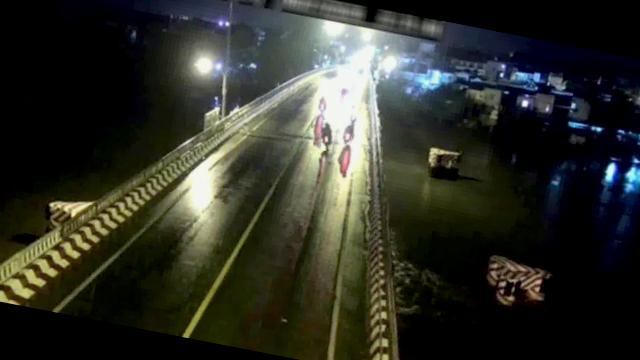Bike: (316, 119, 337, 152), (339, 110, 358, 145), (316, 93, 329, 114)
